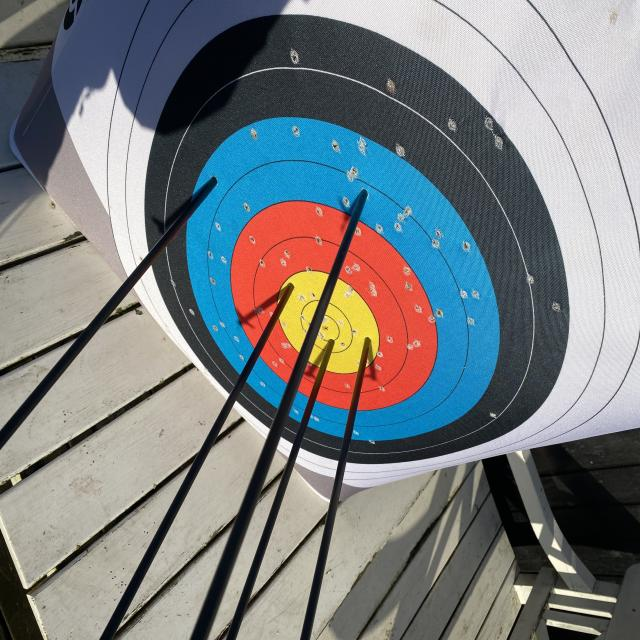Arrow_Blue: (193, 163, 259, 223), (352, 162, 387, 209)
Arrow_Yellow: (348, 314, 384, 372), (270, 260, 299, 309), (318, 327, 345, 371)
